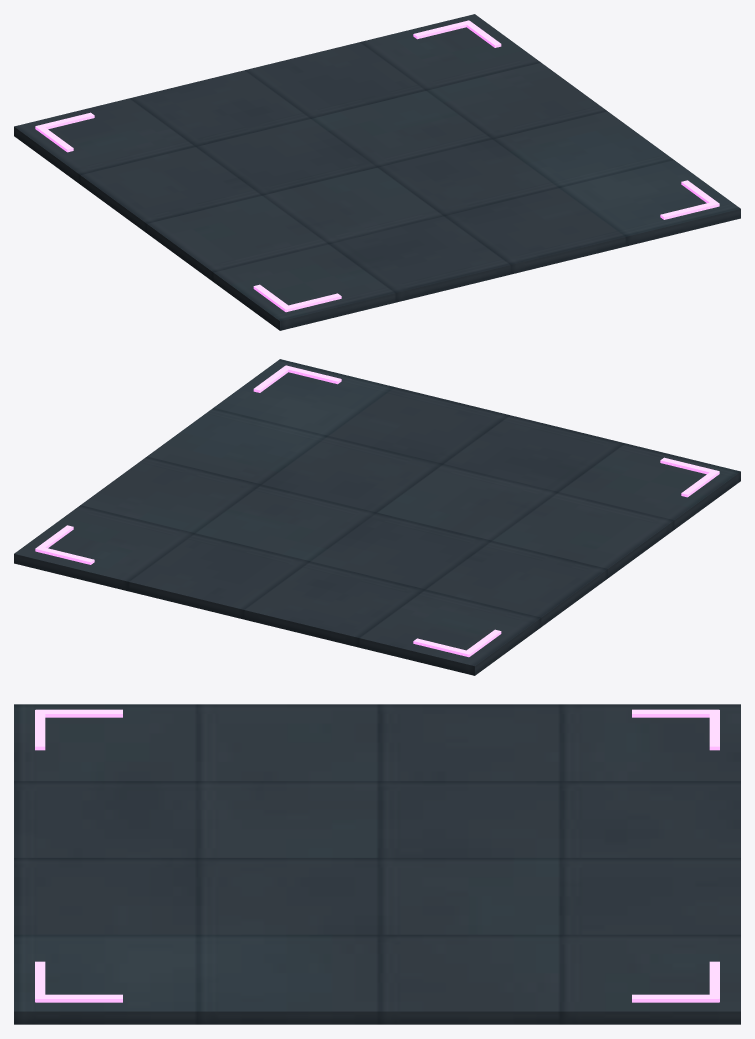
Rendered from decor-plot.glb.
The picture shows the model from 3 angles, top to bottom: view 1: azimuth 30°, elevation 25°; view 2: azimuth 150°, elevation 25°; view 3: azimuth 270°, elevation 25°; orthographic projection. The views are drawn at different scales.
Parts seen in each view (by area): view 1: DecorPlot; view 2: DecorPlot; view 3: DecorPlot.
Boxes of the visible parts, left/top/right/bottom form: DecorPlot: left=14, top=14, right=740, bottom=330; DecorPlot: left=14, top=359, right=740, bottom=675; DecorPlot: left=14, top=704, right=740, bottom=1024.
Bounding box in the file's own units: 1 × 0.0255 × 1.
Materials: 2 (1 with a texture image).
